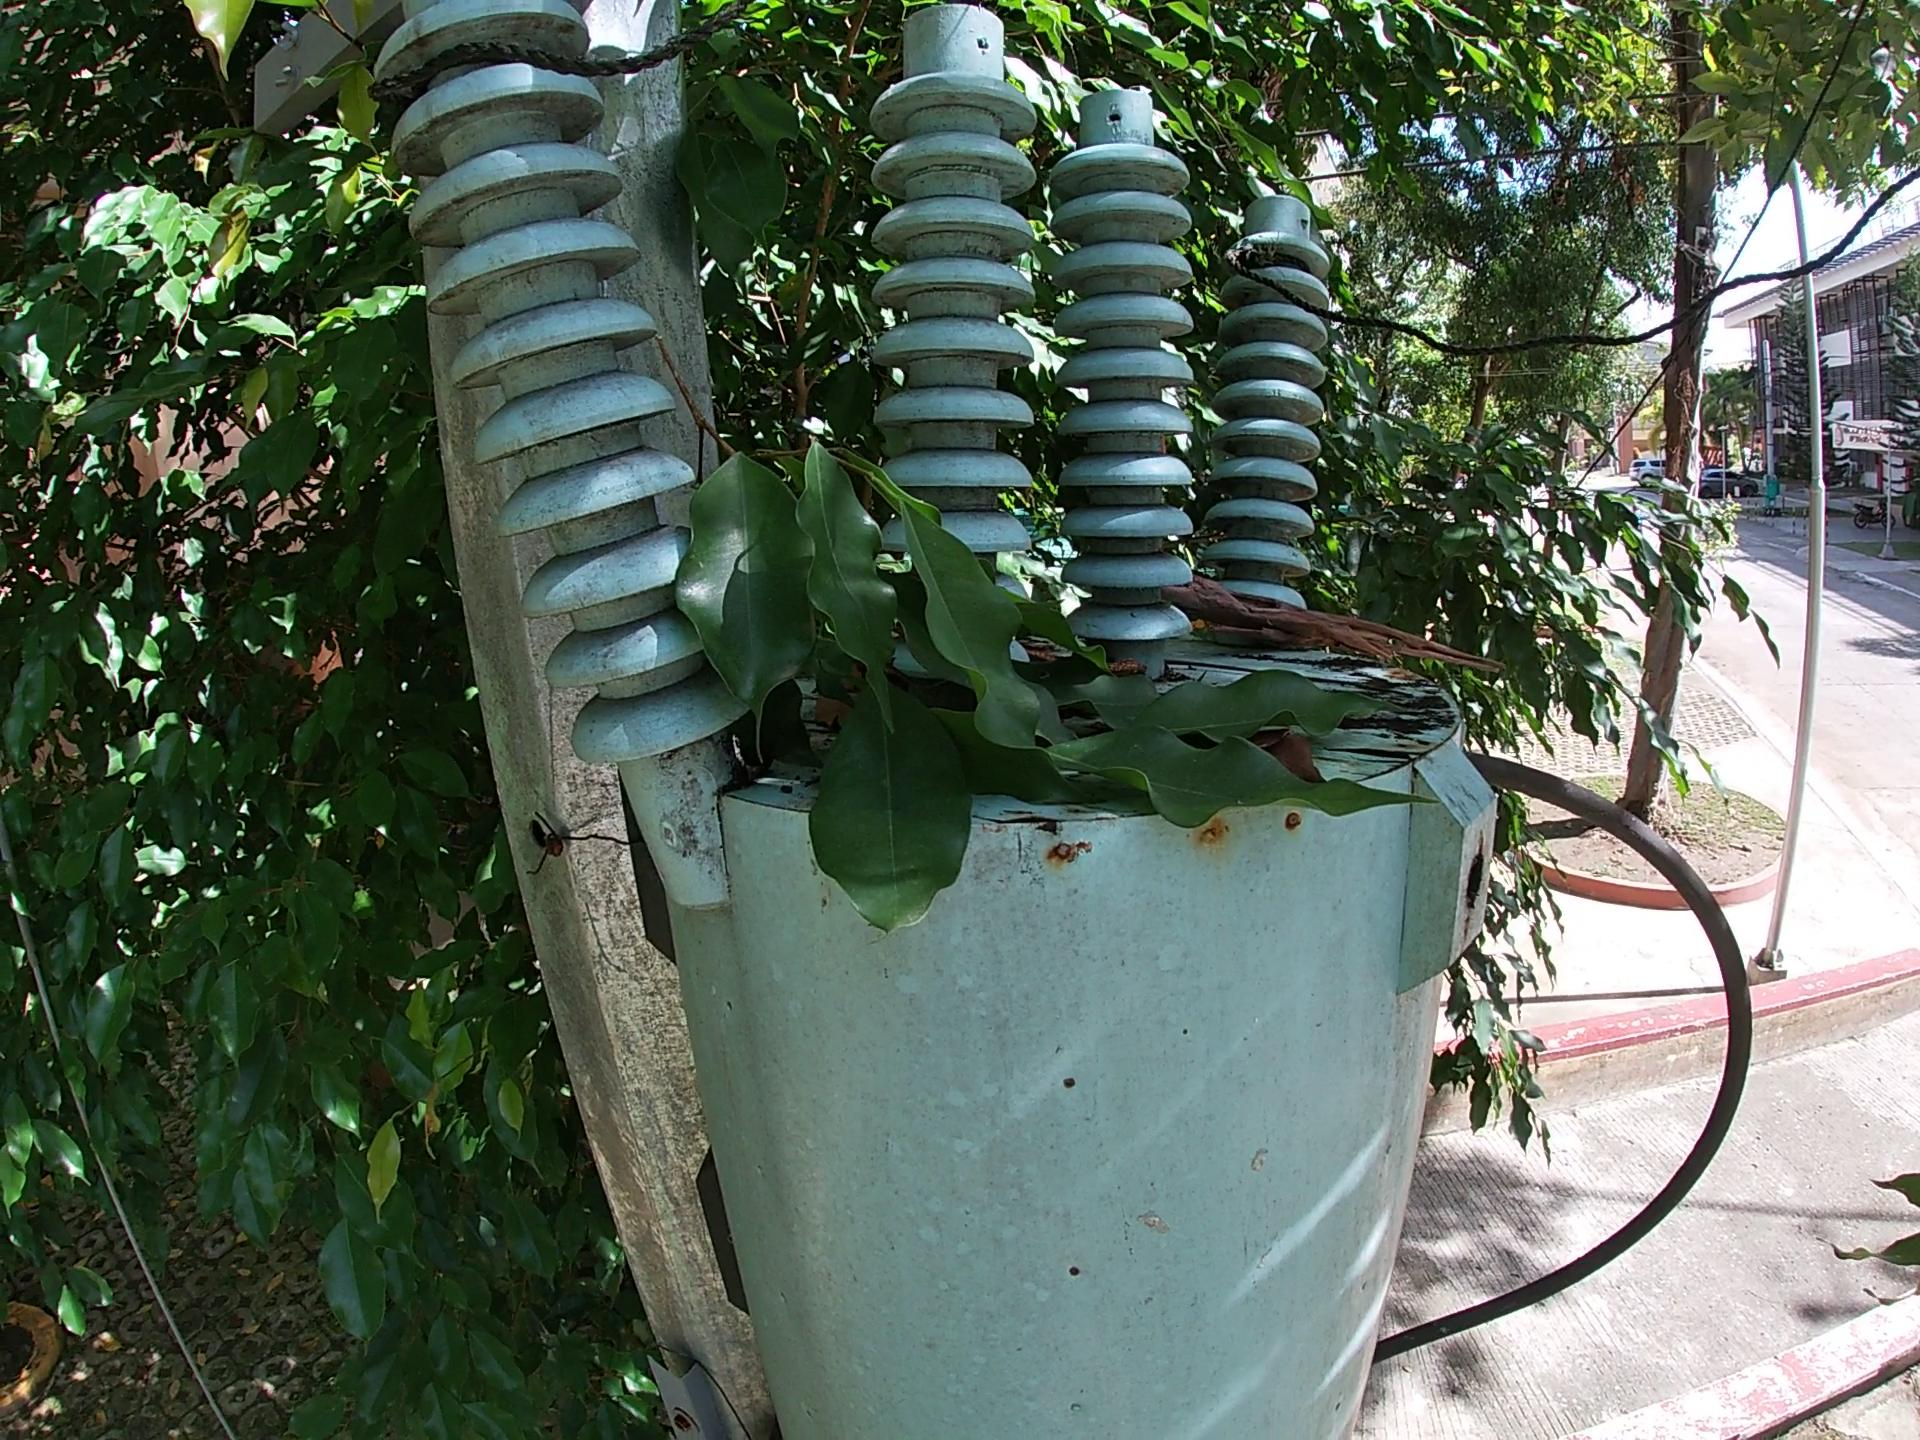branch with leaves: (627, 348, 1460, 953)
mahogany fruit: (1262, 731, 1336, 784), (1023, 656, 1154, 679)
tree branch: (1164, 576, 1528, 684), (1169, 656, 1407, 706)
